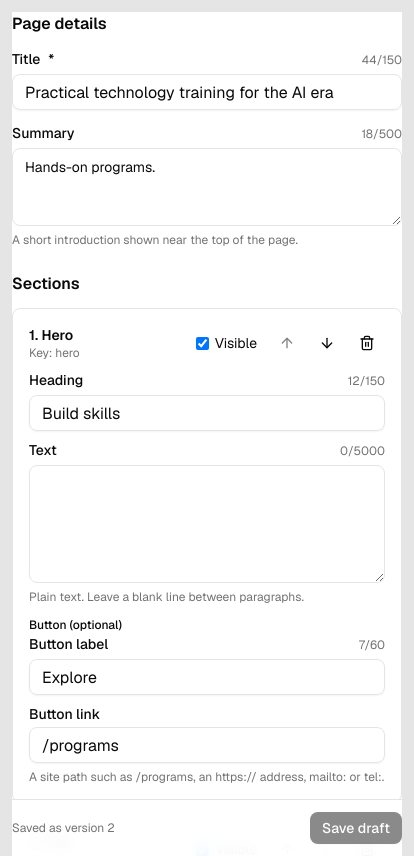
it: PageEditor › shows field errors next to the fields
Clear the field labelled "Title *" at (207, 92), box [12,74,402,110]
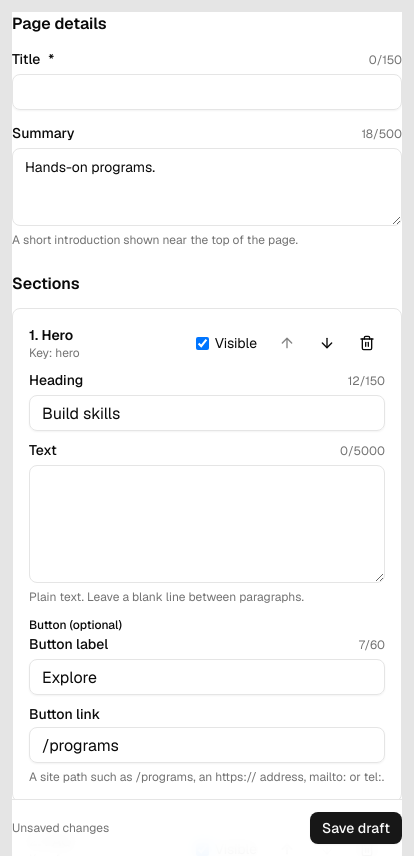
Click the button "Save draft" at (356, 828), box [310,812,402,844]
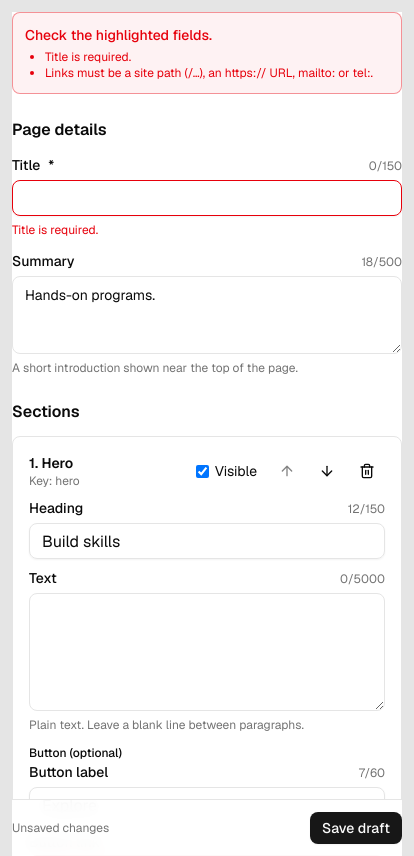
Result: the text "Check the highlighted fields." is shown at [25,26,212,44]
